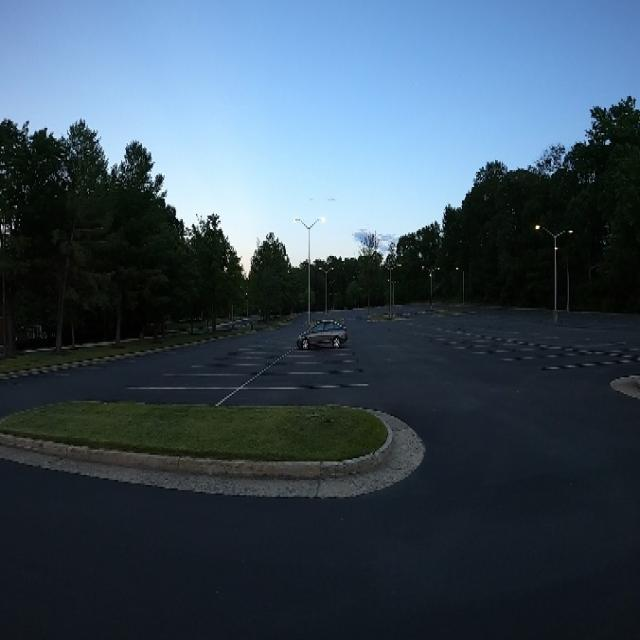Cars: (298, 316, 358, 358)
